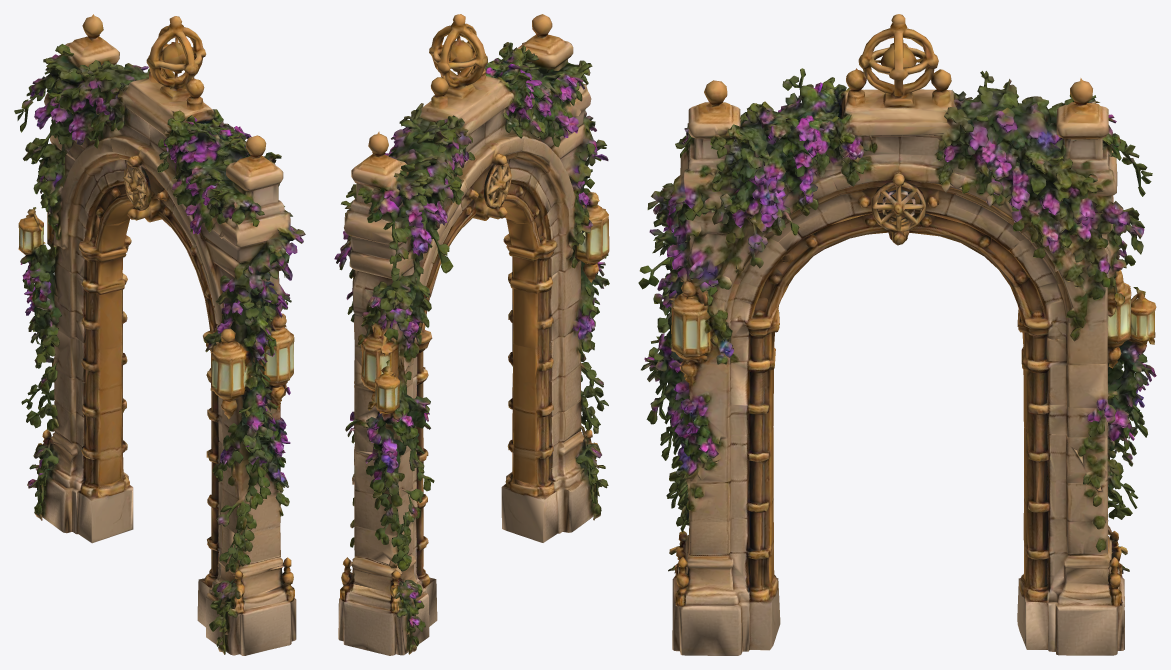
Rendered from prop_arch.glb.
The picture shows the model from 3 angles, left to right: view 1: azimuth 30°, elevation 25°; view 2: azimuth 150°, elevation 25°; view 3: azimuth 270°, elevation 25°; orthographic projection. The views are drawn at different scales.
Parts seen in each view (by area): view 1: tripo_node_a4f96f10-f6d7-42f8-b8d3-30127ffba2b9; view 2: tripo_node_a4f96f10-f6d7-42f8-b8d3-30127ffba2b9; view 3: tripo_node_a4f96f10-f6d7-42f8-b8d3-30127ffba2b9.
Part boxes in pixels (left/top/right/bottom): tripo_node_a4f96f10-f6d7-42f8-b8d3-30127ffba2b9: left=14, top=14, right=305, bottom=655; tripo_node_a4f96f10-f6d7-42f8-b8d3-30127ffba2b9: left=334, top=14, right=609, bottom=655; tripo_node_a4f96f10-f6d7-42f8-b8d3-30127ffba2b9: left=638, top=14, right=1156, bottom=655.
Size of the model in its own units: 0.2027 by 0.9775 by 0.7302.
Materials: 1 (1 with a texture image).
